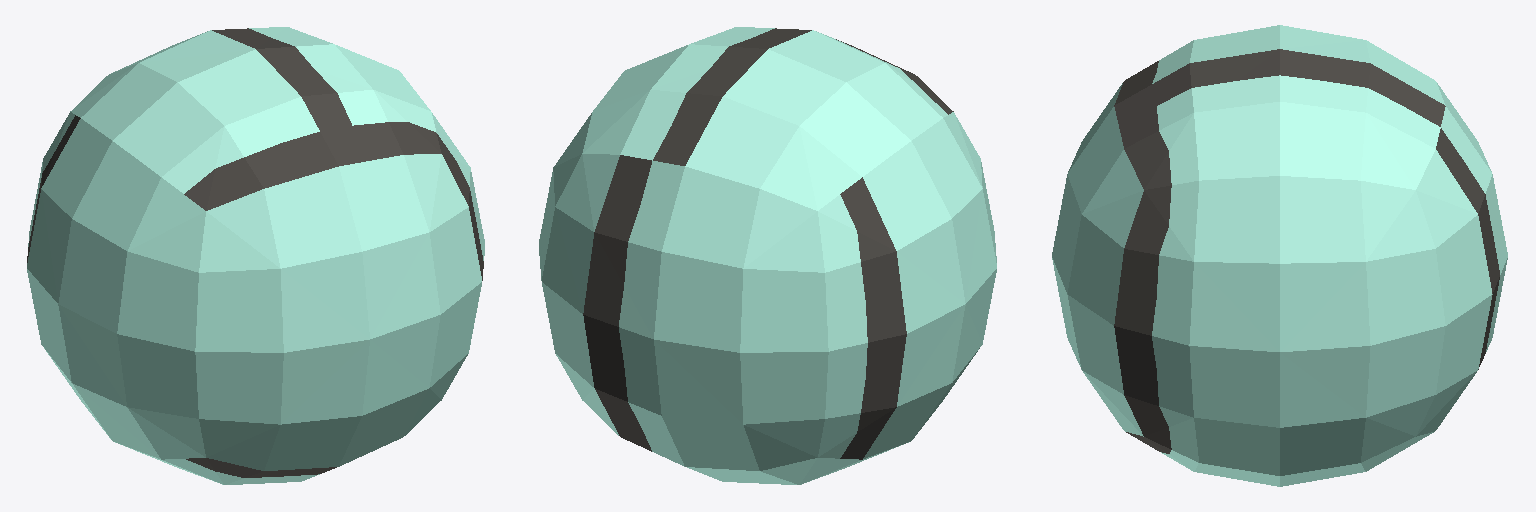
3 views of the same model, side by side, from view 1: azimuth 30°, elevation 25°; view 2: azimuth 150°, elevation 25°; view 3: azimuth 270°, elevation 25° (orthographic).
Visible parts, largest first — view 1: Cube; view 2: Cube; view 3: Cube.
Boxes of the visible parts, <box> form: Cube: <box>27,27,484,484</box>; Cube: <box>539,27,996,484</box>; Cube: <box>1052,25,1507,486</box>.
Bounding box in the file's own units: 0.8738 × 0.8738 × 0.8738.
1 materials, 1 textured.